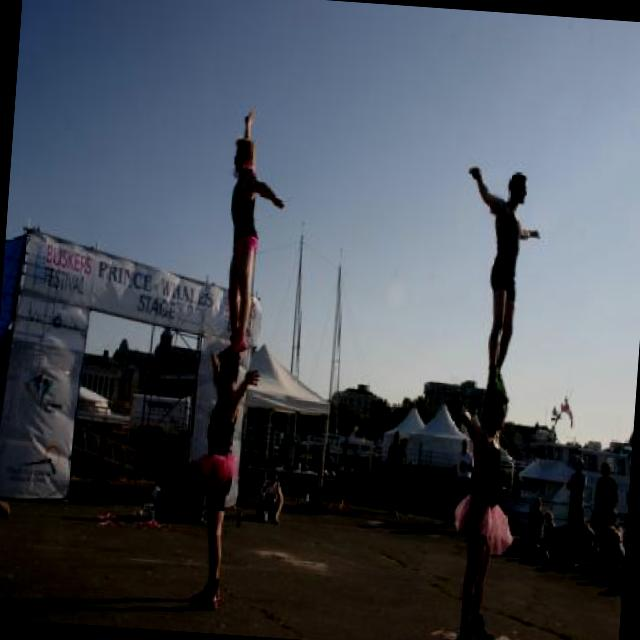Person: (204, 110, 284, 408), (185, 341, 262, 618), (460, 162, 550, 398), (439, 384, 508, 640), (437, 433, 478, 532), (558, 452, 586, 553), (380, 424, 410, 518), (591, 460, 619, 558), (252, 464, 284, 528), (524, 499, 541, 547)
